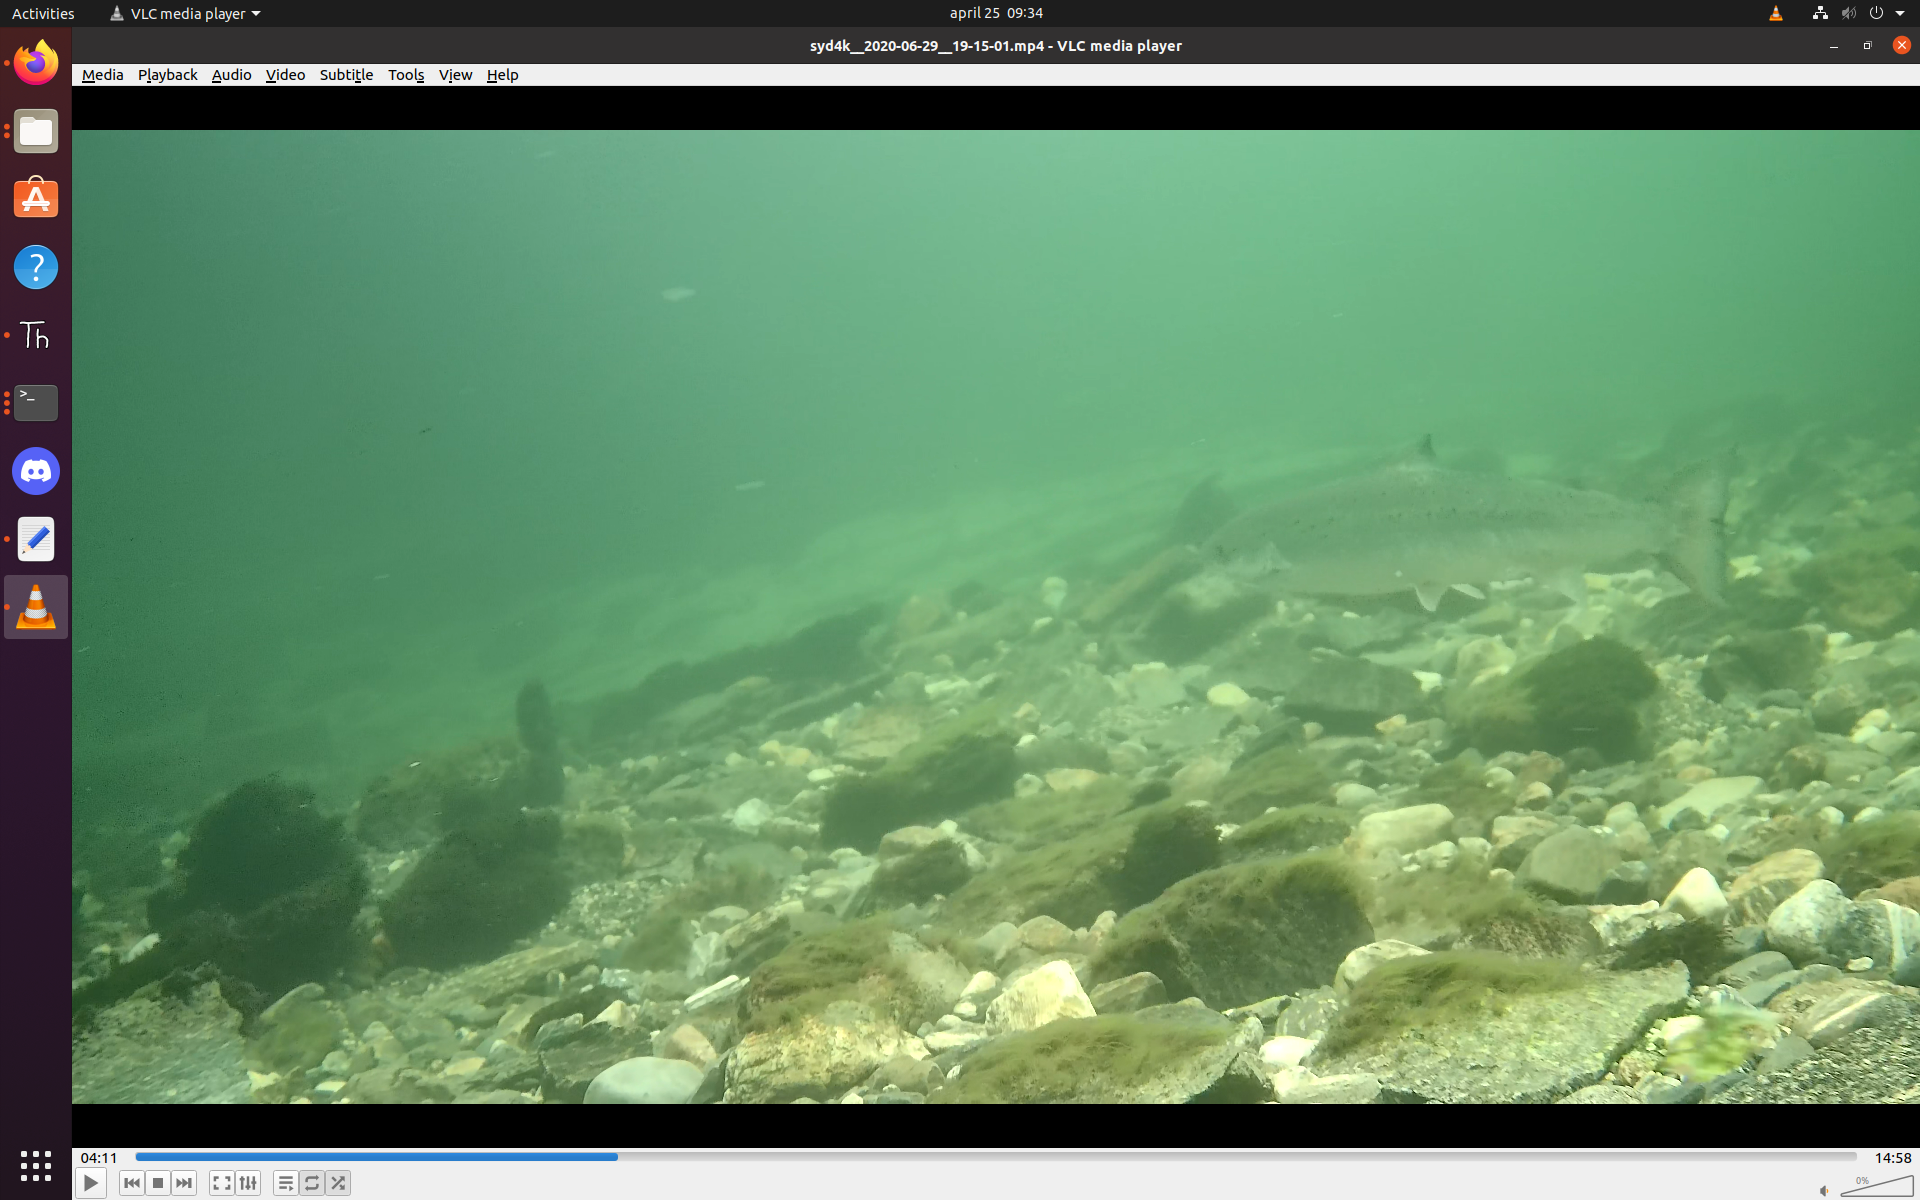salmon: (1198, 433, 1736, 612)
